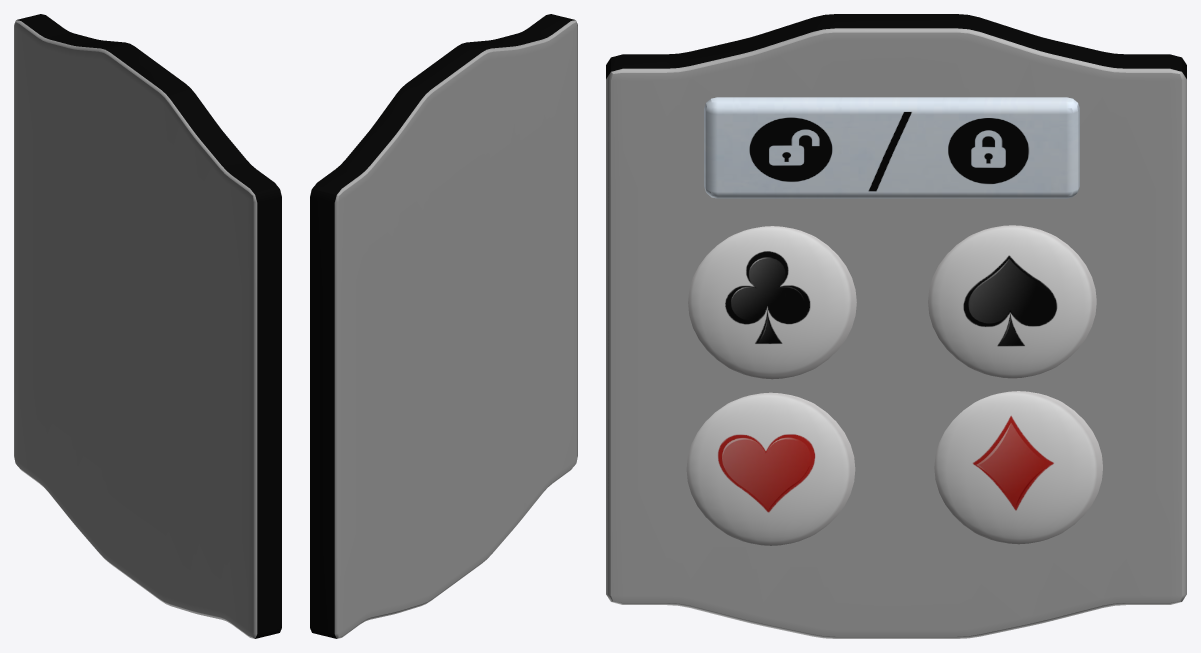
File: UpdatedDrawerLock.fbx
3 renders of one model, left to right at view 1: azimuth 30°, elevation 25°; view 2: azimuth 150°, elevation 25°; view 3: azimuth 270°, elevation 25°, orthographic. The views are drawn at different scales.
Visible parts, largest first — view 1: lock; view 2: lock; view 3: lock, lockSymbol, diamond, spade, hearts, club.
Part boxes in pixels (x1,y1,x2,y2): lock: (14, 14, 281, 638); lock: (310, 14, 577, 638); lock: (606, 14, 1186, 638); lockSymbol: (704, 97, 1079, 198); diamond: (934, 391, 1102, 544); spade: (928, 225, 1096, 378); hearts: (686, 392, 855, 545); club: (688, 226, 856, 379).
Bounding box in the file's own units: 0.3391 × 4.07 × 3.51.
Materials: 8 (5 with a texture image).
